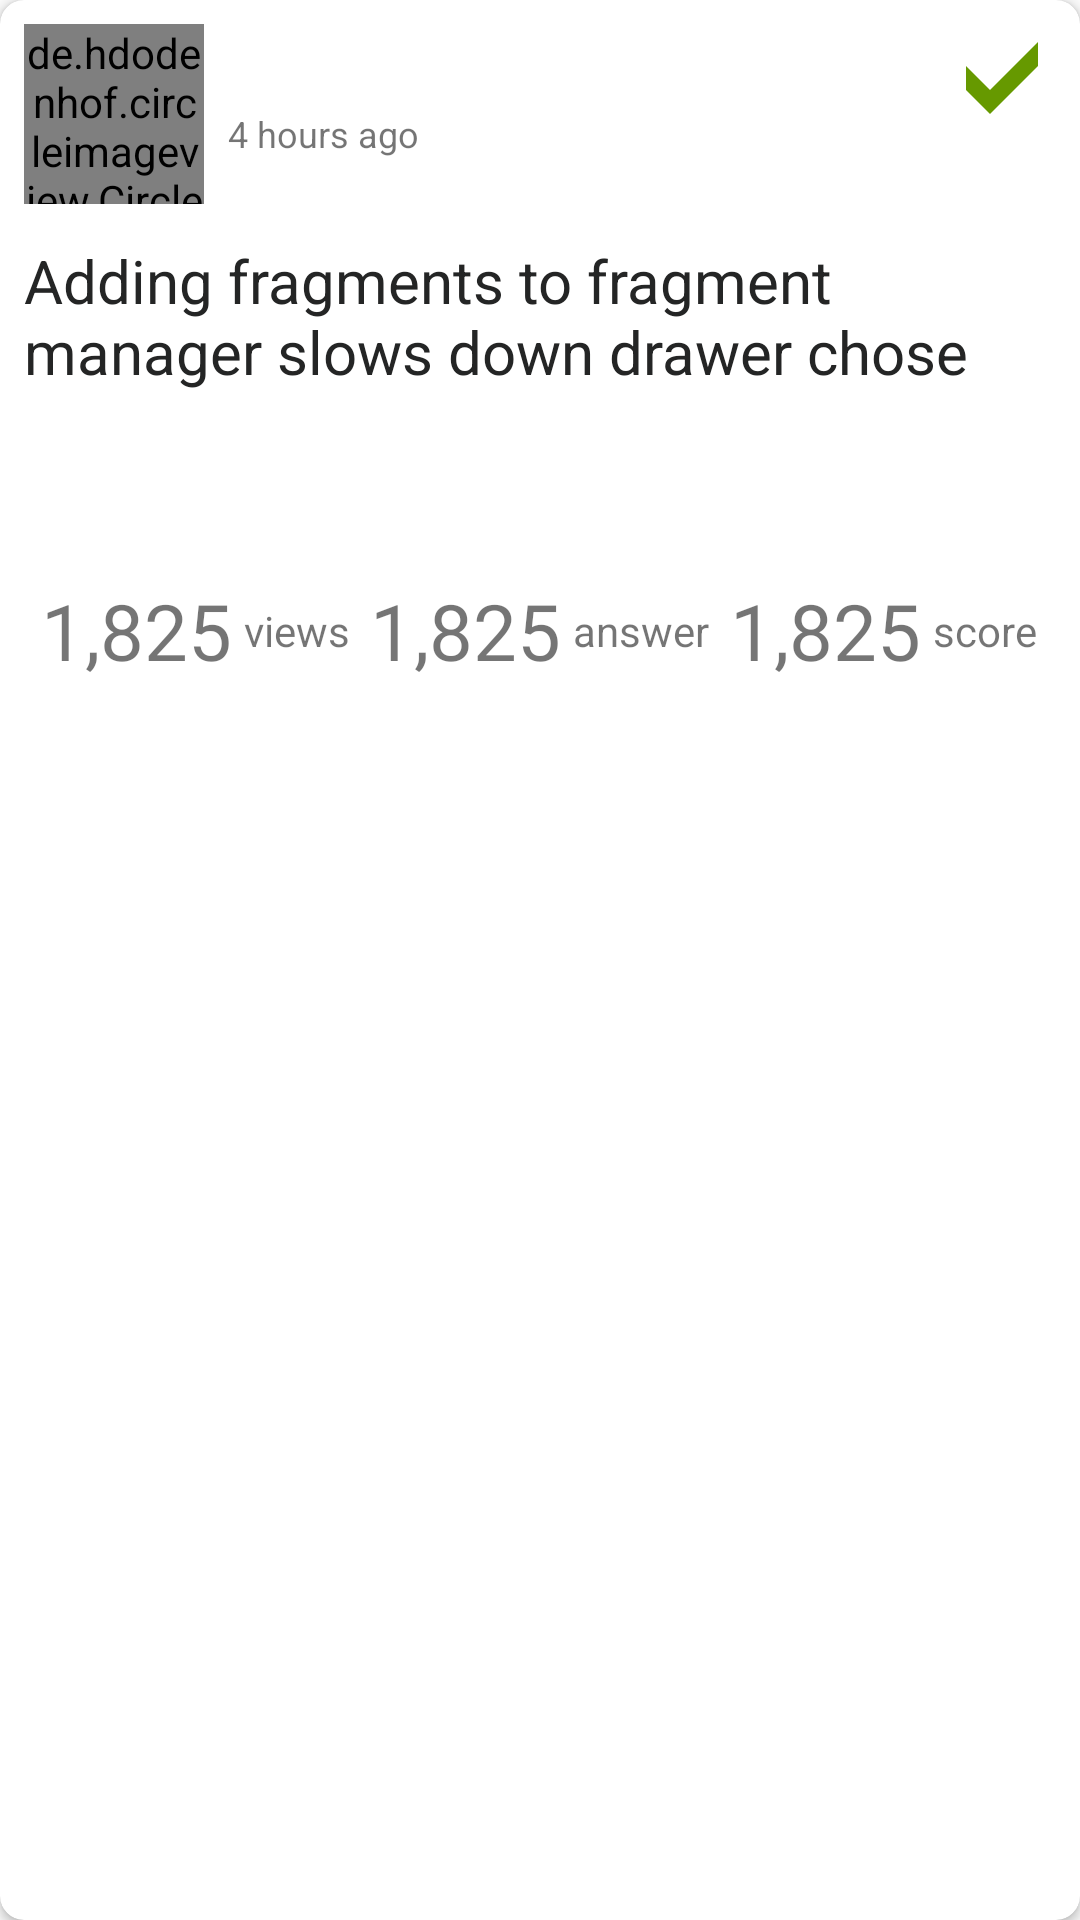

Screen size 1080px×1920px. Icon name, then its box in pixels as (x1, y1, x2, y2):
correct answer: (966, 42, 1038, 114)
